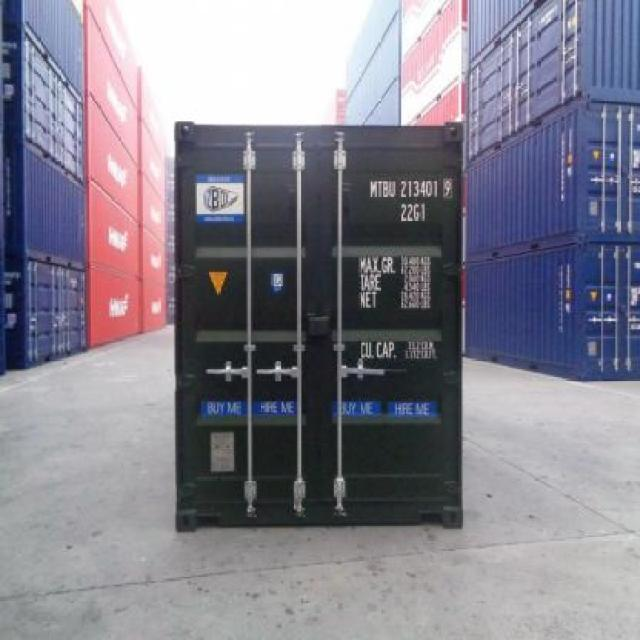ISO: (397, 200, 429, 222)
container_number: (368, 178, 452, 200)
